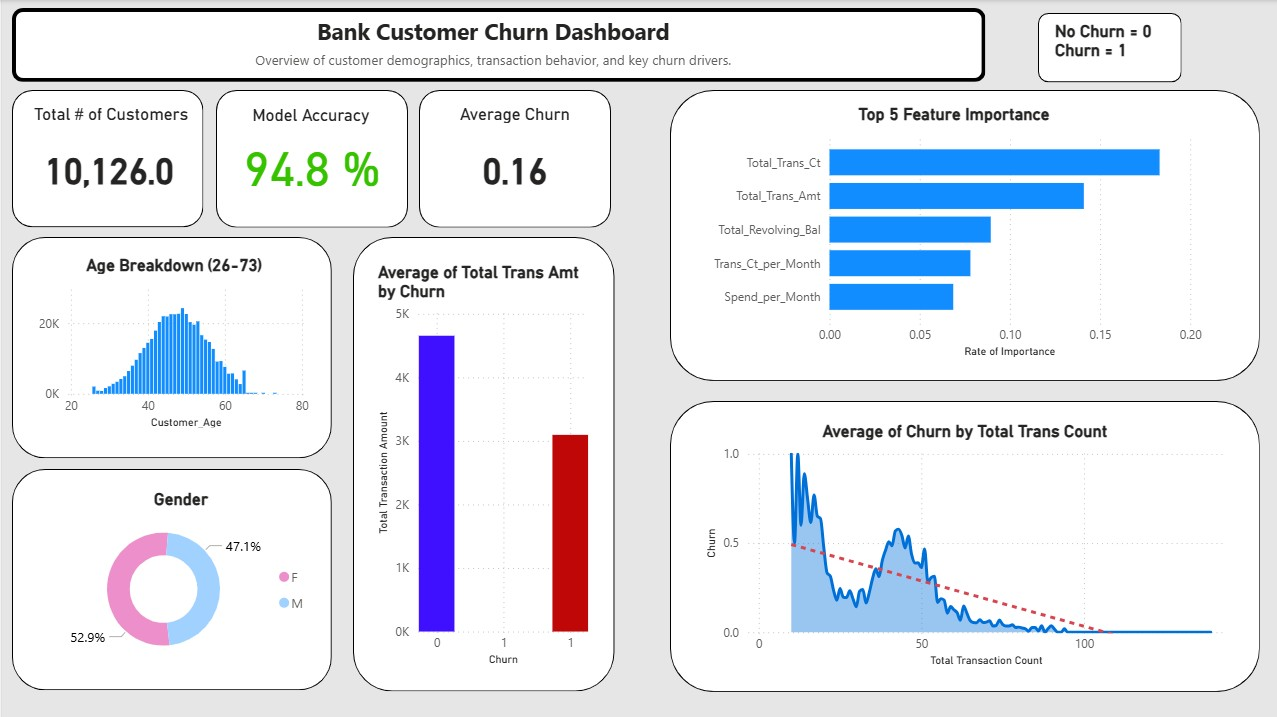

The dashboard page shown, as its layout file describes it:
{"tool":"powerbi","page":{"name":"Page 1","canvas":[1280,720],"ordinal":0},"visuals":[{"type":"shape","box":[1039.8,12.6,144.3,69.5],"z":0},{"type":"shape","box":[10,237.8,321.1,222.2],"z":1000},{"type":"shape","box":[352.5,237.5,262.5,456.2],"z":2000},{"type":"shape","box":[671.1,402.2,592.2,292.2],"z":3000},{"type":"shape","box":[10.1,8.3,977.4,74.3],"z":4000},{"type":"textbox","title":"Bank Customer Churn Dashboard","box":[30.3,16.5,926.1,57.8],"z":5000},{"type":"shape","box":[10,90,192.2,137.8],"z":6000},{"type":"card","title":"Total # of Customers","fields":{"Values":["CountNonNull(creditcard credit_card_customers_clean.CLIENTNUM)"]},"box":[23.3,104.4,168.9,108.9],"z":7000},{"type":"shape","box":[671.1,90,592.2,292.2],"z":8000},{"type":"shape","box":[214.8,90,192.7,138.2],"z":9000},{"type":"textbox","box":[232.4,100.6,160.8,35.8],"z":10000},{"type":"textbox","box":[232.4,136.4,158.8,78.8],"z":11000},{"type":"lineChart","title":"Average of Churn by Total Trans Count","fields":{"Category":["creditcard customer_churn_predictions.Total_Trans_Ct"],"Y":["Avg(creditcard customer_churn_predictions.churn)"]},"box":[702.2,422.2,530,251.1],"z":12000},{"type":"columnChart","title":"Average of Total Trans Amt by Churn","fields":{"Category":["creditcard customer_churn_predictions.churn"],"Y":["Avg(creditcard customer_churn_predictions.Total_Trans_Amt)"]},"box":[372.7,262.7,220.9,410],"z":13000},{"type":"shape","box":[419.1,90,192.7,138.2],"z":14000},{"type":"card","title":"Average Churn","fields":{"Values":["Avg(creditcard customer_churn_predictions.churn)"]},"box":[430.9,104.5,168.2,109.1],"z":15000},{"type":"slicer","fields":{"Values":["Title names.Column1"]},"box":[42,729,1202,141],"z":16000},{"type":"clusteredColumnChart","title":"Age Breakdown (26-73)","fields":{"Y":["Sum(creditcard credit_card_customers_clean.Customer_Age)"],"Category":["creditcard credit_card_customers_clean.Customer_Age"]},"box":[31.7,255.8,280.8,178.3],"z":17000},{"type":"shape","box":[10,471.1,321.1,222.2],"z":18000},{"type":"donutChart","title":"Gender","fields":{"Category":["creditcard credit_card_customers_clean.Gender"],"Y":["CountNonNull(creditcard credit_card_customers_clean.Gender)"]},"box":[42,491,275,182],"z":19000},{"type":"barChart","title":"Top 5 Feature Importance","fields":{"Category":["Top 5.Column1"],"Y":["Sum(Top 5.Column2)"]},"box":[701.8,104.5,508.2,259.1],"z":20000},{"type":"textbox","box":[1051.7,16.5,121,49.5],"z":21000}]}

Visuals, with their boxes in screenshot pixels (x1, y1, x2, y2), scaled from the page's 1280x720 canvas onto the 1277x717 screenshot:
shape: left=1037, top=13, right=1181, bottom=82
shape: left=10, top=237, right=330, bottom=458
shape: left=352, top=237, right=614, bottom=691
shape: left=670, top=401, right=1260, bottom=692
shape: left=10, top=8, right=985, bottom=82
"Bank Customer Churn Dashboard" textbox: left=30, top=16, right=954, bottom=74
shape: left=10, top=90, right=202, bottom=227
"Total # of Customers" card: left=23, top=104, right=192, bottom=212
shape: left=670, top=90, right=1260, bottom=381
shape: left=214, top=90, right=407, bottom=227
textbox: left=232, top=100, right=392, bottom=136
textbox: left=232, top=136, right=390, bottom=214
"Average of Churn by Total Trans Count" lineChart: left=701, top=420, right=1229, bottom=670
"Average of Total Trans Amt by Churn" columnChart: left=372, top=262, right=592, bottom=670
shape: left=418, top=90, right=610, bottom=227
"Average Churn" card: left=430, top=104, right=598, bottom=213
"Age Breakdown (26-73)" clusteredColumnChart: left=32, top=255, right=312, bottom=432
shape: left=10, top=469, right=330, bottom=690
"Gender" donutChart: left=42, top=489, right=316, bottom=670
"Top 5 Feature Importance" barChart: left=700, top=104, right=1207, bottom=362
textbox: left=1049, top=16, right=1170, bottom=66
